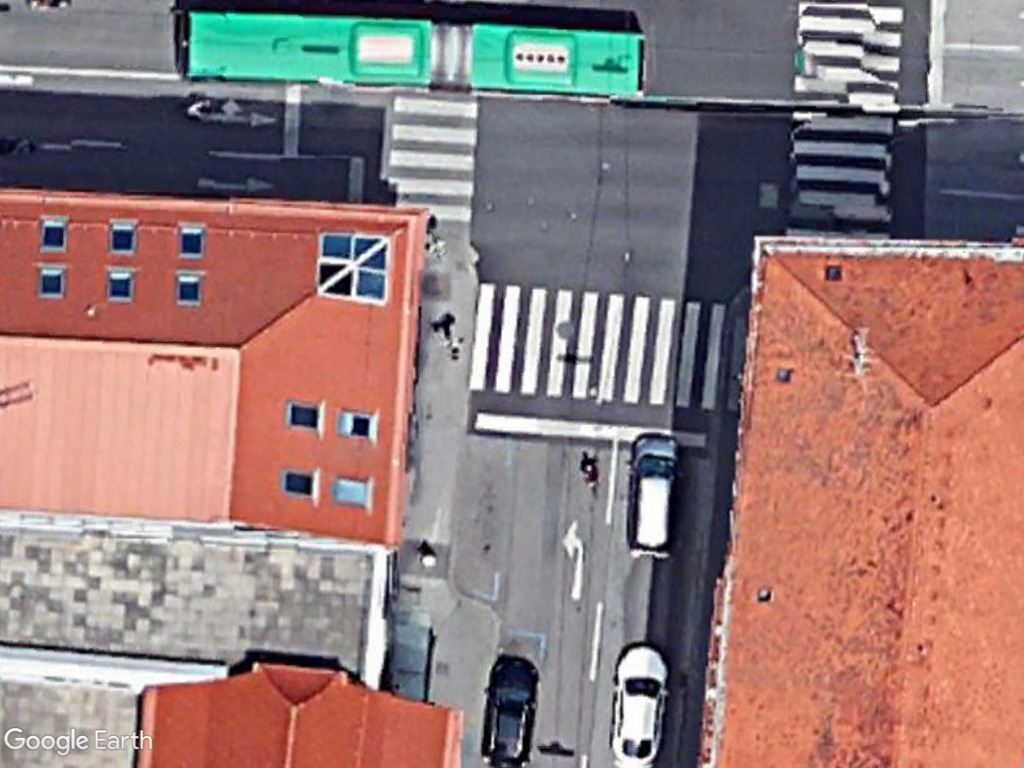bus: (170, 7, 654, 105)
car: (622, 427, 685, 565), (609, 638, 673, 768), (477, 649, 541, 768)
